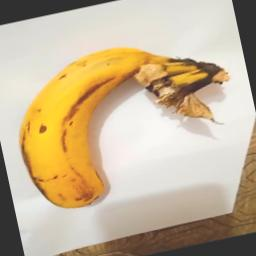Banana Unripe: (2, 23, 251, 216)
